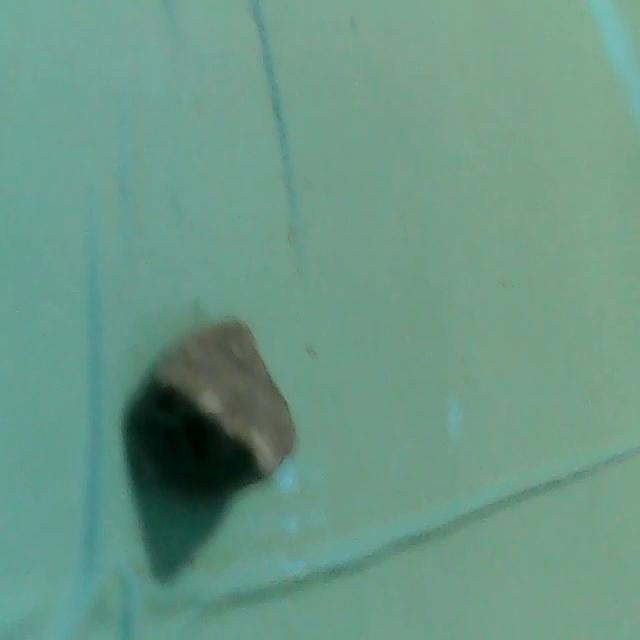rock: (138, 315, 301, 501)
